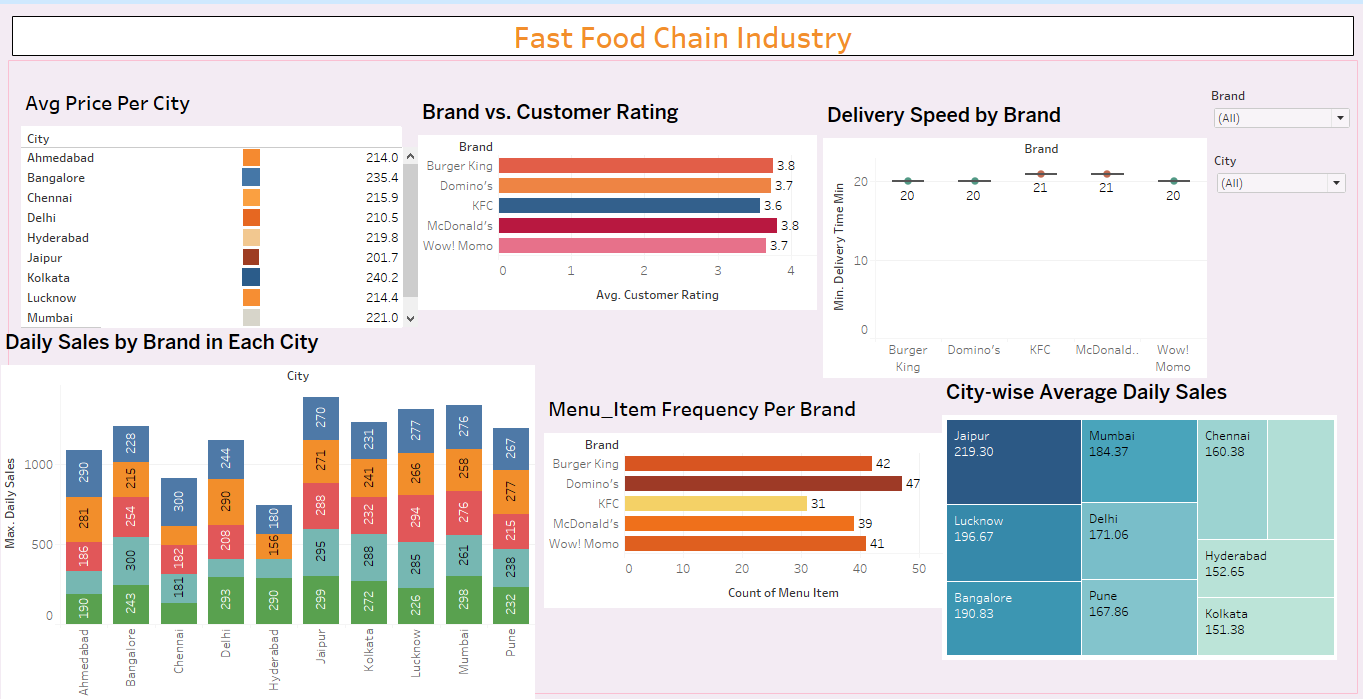

This screenshot's page, from the dashboard's own definition file:
{"tool":"tableau","page":{"name":"Fast Food Chain Industry","canvas":[1000,1000],"units":"permille","ordinal":0},"visuals":[{"type":"title","box":[6.7,14.5,986.6,87]},{"type":"worksheet","title":"Avg Price per City","mark":"Automatic","rows":["City"],"box":[15.1,114.1,291.2,349.6]},{"type":"filter","title":"Avg Price per City","param":"[federated.0amjbyr1bcor2y15x4vbq1qlltze].[none:Brand:nk]","box":[886.2,119.6,103.8,96]},{"type":"worksheet","title":"Brand vs. Customer Rating","mark":"Automatic","rows":["Brand"],"cols":["Customer_Rating"],"box":[306.3,132.2,292.1,396.7]},{"type":"worksheet","title":"Delivery Speed by Brand","mark":"Circle","rows":["Delivery_Time_Min"],"cols":["Brand"],"box":[602.5,135.9,281.2,400.4]},{"type":"filter","title":"Avg Price per City","param":"[federated.0amjbyr1bcor2y15x4vbq1qlltze].[none:City:nk]","box":[888.7,212,98.7,99.6]},{"type":"worksheet","title":"Daily Sales by Brand in Each City","mark":"Automatic","rows":["Daily_Sales"],"cols":["City"],"box":[0.8,462,390.8,541.7]},{"type":"worksheet","title":"Menu_Item frequency per Brand","mark":"Automatic","rows":["Brand"],"cols":["Menu_Item"],"box":[398.3,552.5,292.1,429.4]}]}

Visuals, with their boxes on the dashboard's canvas, which has no fixed pixel size, in thousandths of its width and height (x1, y1, x2, y2). These are canvas units, not pixel positions in the 1363x699 screenshot, which may show the page scaled, cropped or inside an application window:
title: [7,14,993,102]
"Avg Price per City" worksheet: [15,114,306,464]
"Avg Price per City" filter: [886,120,990,216]
"Brand vs. Customer Rating" worksheet: [306,132,598,529]
"Delivery Speed by Brand" worksheet (Circle marks): [602,136,884,536]
"Avg Price per City" filter: [889,212,987,312]
"Daily Sales by Brand in Each City" worksheet: [1,462,392,1004]
"Menu_Item frequency per Brand" worksheet: [398,552,690,982]
